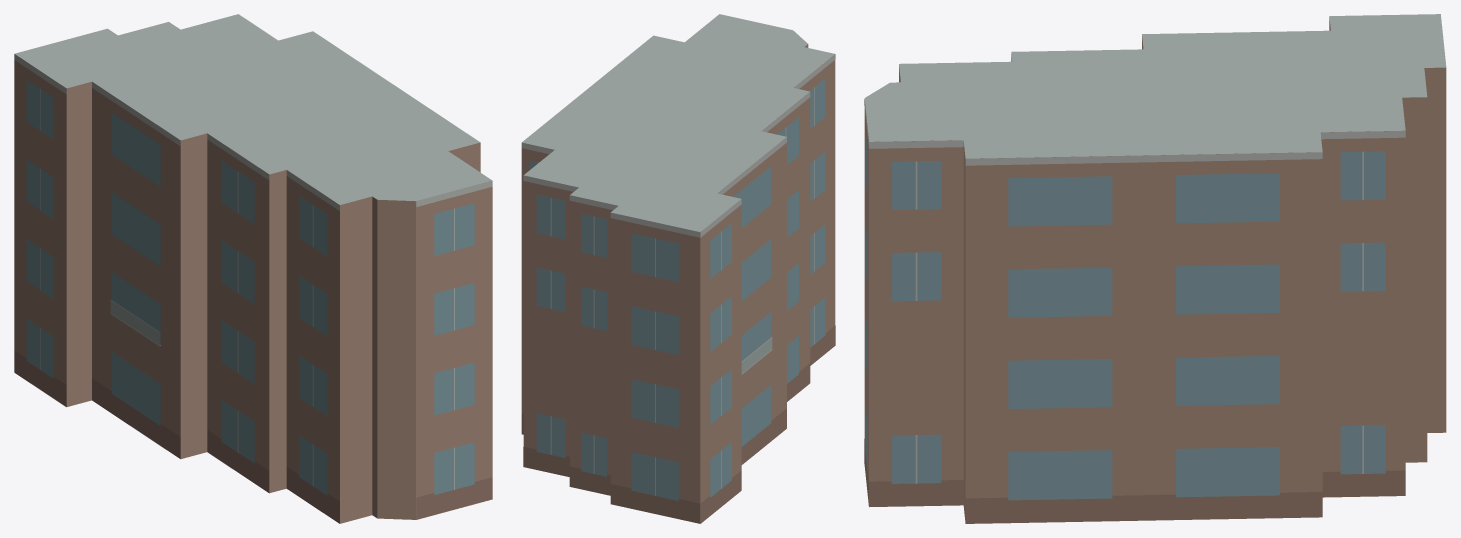
Rendered from survey-upis-32614678.glb.
3 renders of one model, left to right at view 1: azimuth 30°, elevation 25°; view 2: azimuth 150°, elevation 25°; view 3: azimuth 270°, elevation 25°, orthographic. The views are drawn at different scales.
Visible parts, largest first — view 1: survey-upis-32614678.tmp; view 2: survey-upis-32614678.tmp; view 3: survey-upis-32614678.tmp.
Part boxes in pixels (x1,y1,x2,y2): survey-upis-32614678.tmp: (14, 14, 492, 523); survey-upis-32614678.tmp: (521, 14, 835, 523); survey-upis-32614678.tmp: (864, 14, 1446, 523).
Bounding box in the file's own units: 10.91 × 12.82 × 18.52.
